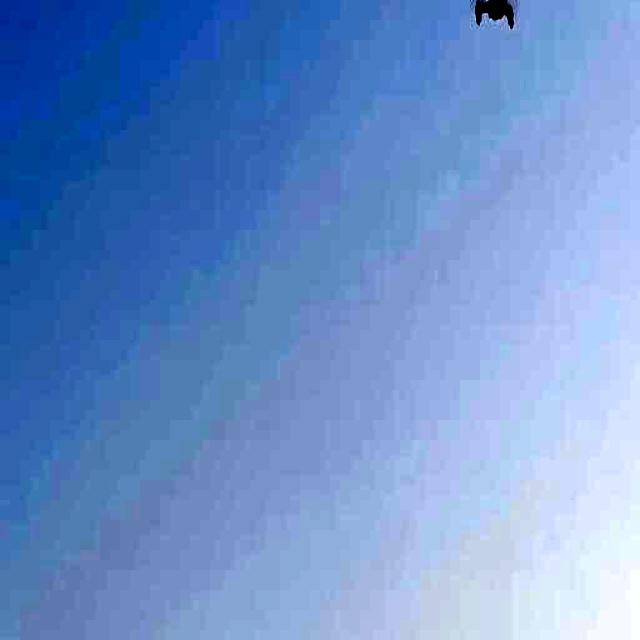bird: (472, 0, 531, 35)
